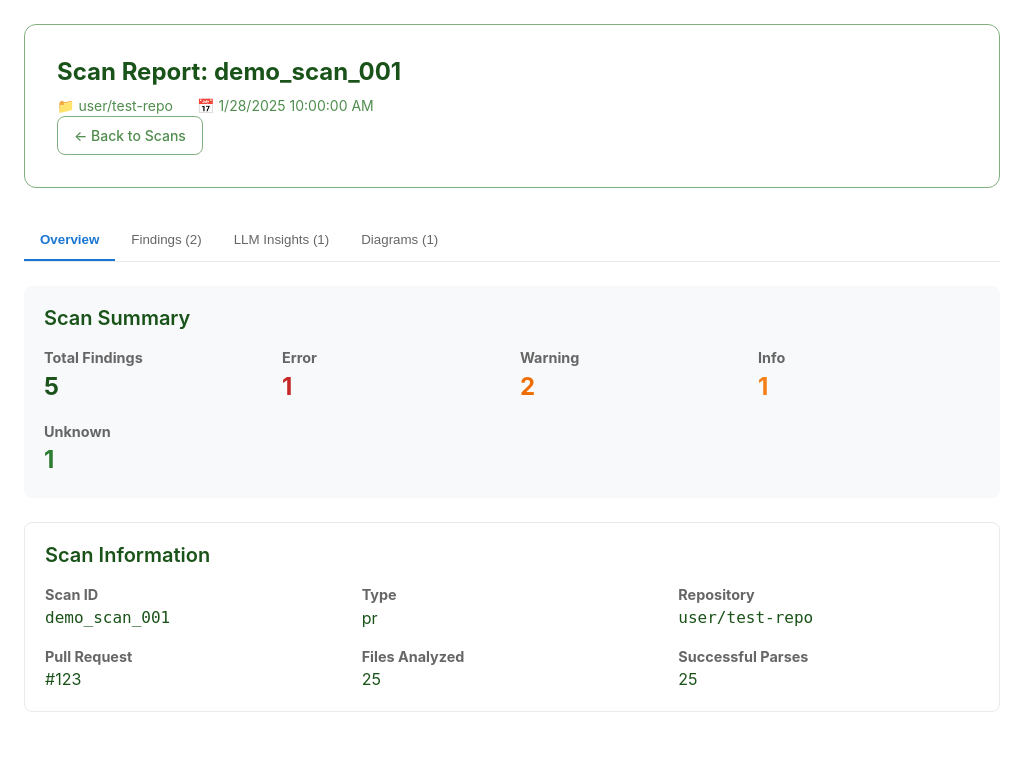
it: ReportView Component › LLM insights tab displays analysis correctly
Expected: the heading "Scan Report: demo_scan_001" is shown, [57,57,401,86]
// Click on insights tab
What coordinates should you click on to do the following:
click the button "LLM Insights (1)"
I would click on:
 (282, 240)
Its box is [218,220,345,261].
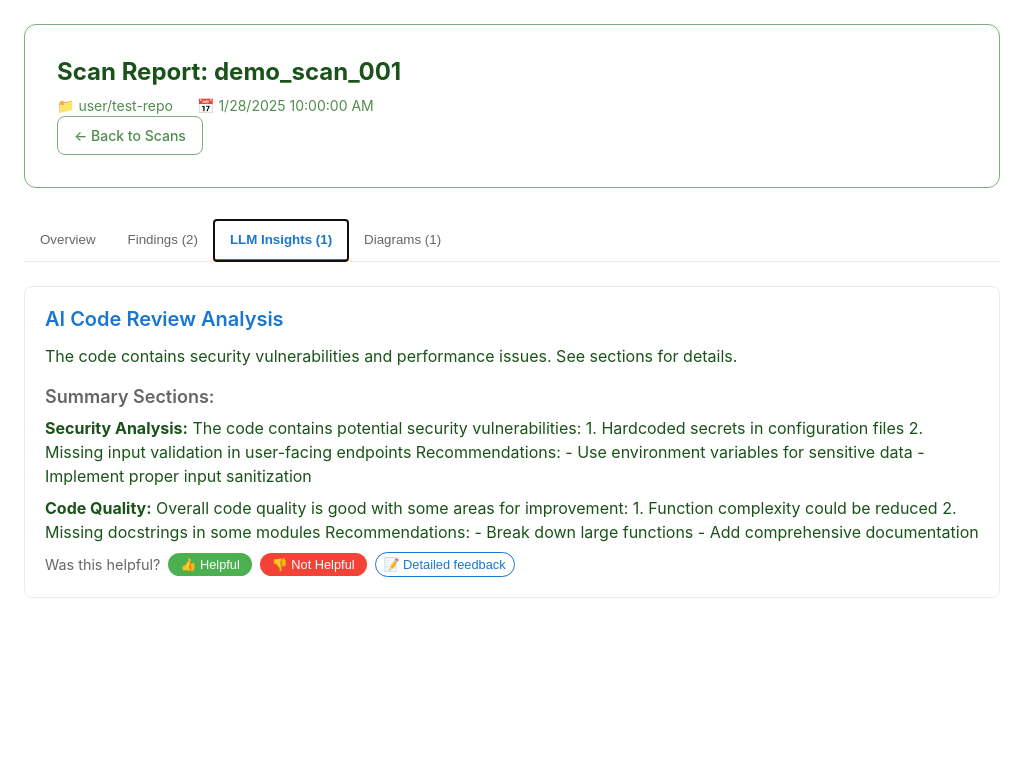
Expected: the heading "AI Code Review Analysis" is shown, [45,307,284,331]
Expected: the text "The code contains security vulnerabilities and performance issues. See sections for details." is shown, [45,346,737,366]
Expected: the text "Security Analysis:" is shown, [45,418,188,438]
